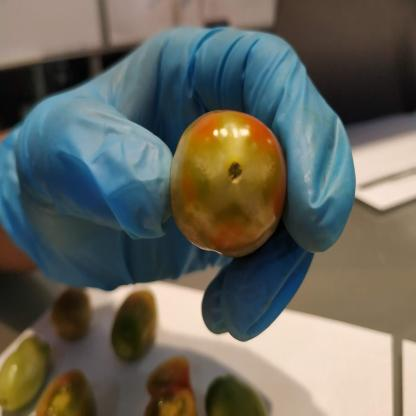T_F_R: (171, 111, 288, 258)
